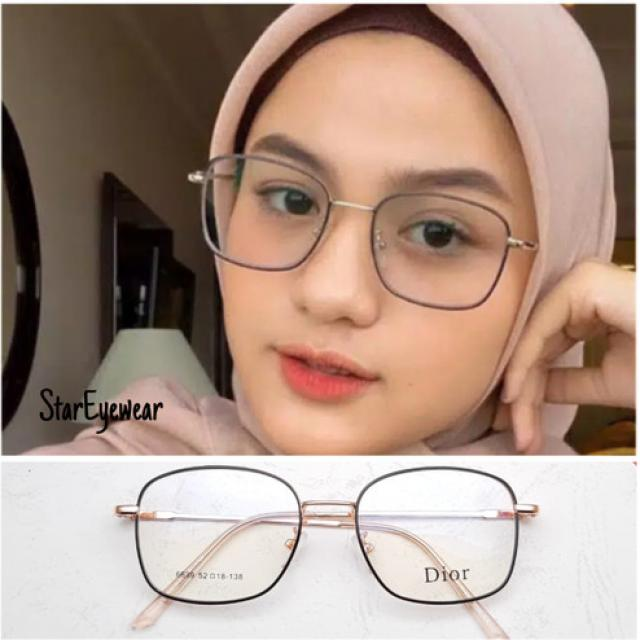Glasses: (111, 464, 554, 611), (180, 145, 544, 319)
